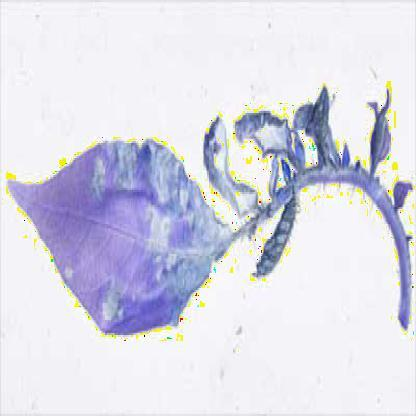Potato leaf: (2, 115, 234, 348)
